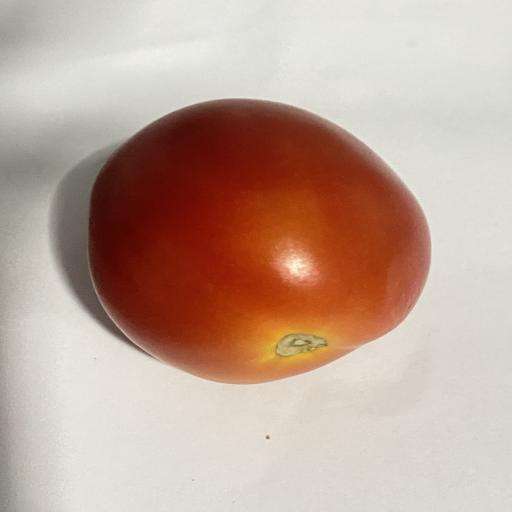ripe: (88, 99, 430, 383)
